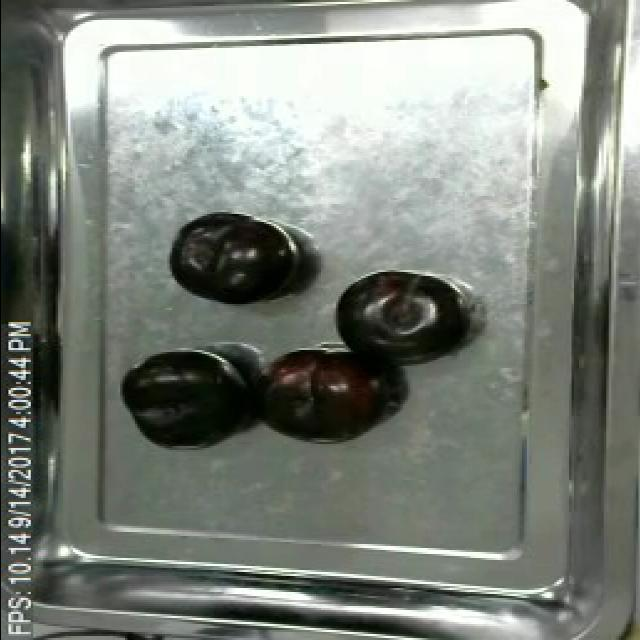Fruit: (248, 348, 394, 448), (116, 350, 248, 454), (164, 212, 298, 310), (332, 276, 454, 368)
